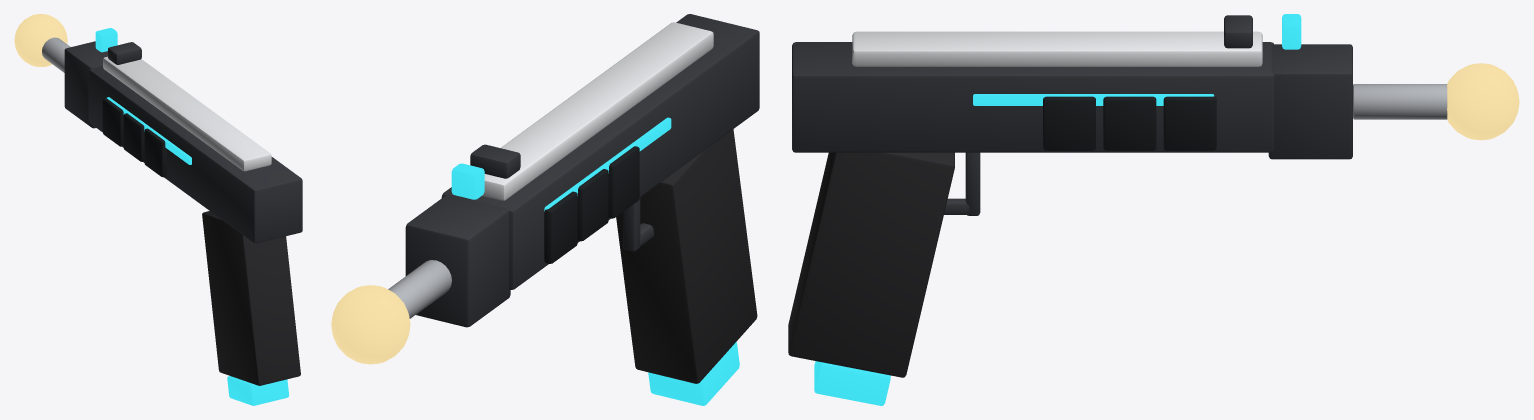
Rendered from iskra9.glb.
3 renders of one model, left to right at view 1: azimuth 30°, elevation 25°; view 2: azimuth 150°, elevation 25°; view 3: azimuth 270°, elevation 25°, orthographic. The views are drawn at different scales.
Visible parts, largest first — view 1: SM_Iskra9_Grip, SM_Iskra9_Frame, SM_Iskra9_Frame_RailTop, SM_Iskra9_Muzzle_Housing, iskra9.flash, SM_Iskra9_Grip_PowerCell, SM_Iskra9_Vent_L1, SM_Iskra9_Vent_L2, SM_Iskra9_Vent_L3, SM_Iskra9_Emitter_Barrel, SM_Iskra9_Sight_Rear, SM_Iskra9_SideStrip_L (+1 smaller); view 2: SM_Iskra9_Grip, SM_Iskra9_Frame, SM_Iskra9_Frame_RailTop, SM_Iskra9_Muzzle_Housing, iskra9.flash, SM_Iskra9_Grip_PowerCell, SM_Iskra9_Emitter_Barrel, SM_Iskra9_Vent_L3, SM_Iskra9_Vent_L1, SM_Iskra9_Vent_L2, SM_Iskra9_Sight_Rear, SM_Iskra9_Sight_Front (+2 smaller); view 3: SM_Iskra9_Frame, SM_Iskra9_Grip, SM_Iskra9_Frame_RailTop, SM_Iskra9_Muzzle_Housing, iskra9.flash, SM_Iskra9_Emitter_Barrel, SM_Iskra9_Vent_R3, SM_Iskra9_Vent_R2, SM_Iskra9_Vent_R1, SM_Iskra9_Grip_PowerCell, SM_Iskra9_SideStrip_R, SM_Iskra9_TriggerGuard_Front (+2 smaller).
Boxes of the visible parts, x1,y1,x2,y2 form: SM_Iskra9_Grip: (202, 211, 300, 385); SM_Iskra9_Frame: (88, 66, 302, 243); SM_Iskra9_Frame_RailTop: (103, 56, 271, 171); SM_Iskra9_Muzzle_Housing: (64, 41, 107, 128); iskra9.flash: (14, 14, 67, 66); SM_Iskra9_Grip_PowerCell: (227, 376, 288, 405); SM_Iskra9_Vent_L1: (144, 128, 166, 177); SM_Iskra9_Vent_L2: (123, 113, 144, 161); SM_Iskra9_Vent_L3: (102, 98, 123, 146); SM_Iskra9_Emitter_Barrel: (42, 37, 70, 72); SM_Iskra9_Sight_Rear: (108, 42, 141, 64); SM_Iskra9_SideStrip_L: (107, 97, 191, 164); SM_Iskra9_Grip: (616, 129, 757, 383); SM_Iskra9_Frame: (441, 14, 759, 289); SM_Iskra9_Frame_RailTop: (482, 22, 713, 200); SM_Iskra9_Muzzle_Housing: (405, 194, 510, 327); iskra9.flash: (331, 285, 410, 364); SM_Iskra9_Grip_PowerCell: (648, 342, 739, 405); SM_Iskra9_Emitter_Barrel: (388, 260, 451, 318); SM_Iskra9_Vent_L3: (544, 191, 577, 263); SM_Iskra9_Vent_L1: (608, 146, 639, 218); SM_Iskra9_Vent_L2: (577, 169, 608, 241); SM_Iskra9_Sight_Rear: (470, 144, 520, 178); SM_Iskra9_Sight_Front: (451, 163, 484, 199); SM_Iskra9_Frame: (792, 42, 1274, 152); SM_Iskra9_Grip: (788, 152, 954, 377); SM_Iskra9_Frame_RailTop: (852, 31, 1262, 66); SM_Iskra9_Muzzle_Housing: (1268, 44, 1352, 159); iskra9.flash: (1447, 63, 1519, 140); SM_Iskra9_Emitter_Barrel: (1353, 84, 1447, 119); SM_Iskra9_Vent_R3: (1163, 96, 1216, 150); SM_Iskra9_Vent_R2: (1103, 96, 1156, 150); SM_Iskra9_Vent_R1: (1043, 96, 1095, 150); SM_Iskra9_Grip_PowerCell: (814, 361, 890, 405); SM_Iskra9_SideStrip_R: (973, 94, 1214, 105); SM_Iskra9_TriggerGuard_Front: (965, 152, 980, 215).
Size of the model in its own units: 0.042 by 0.1717 by 0.303.
